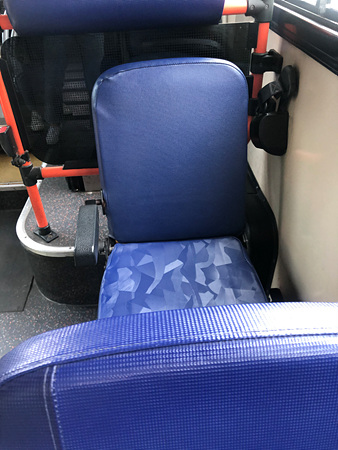seat: (97, 62, 269, 308)
